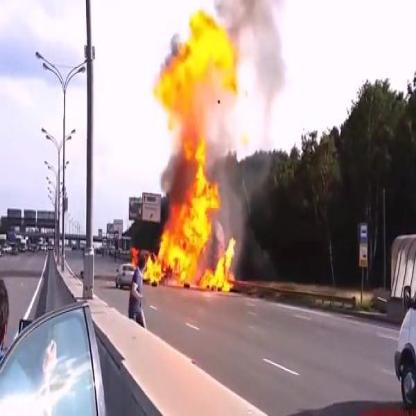fire: (145, 4, 244, 292)
